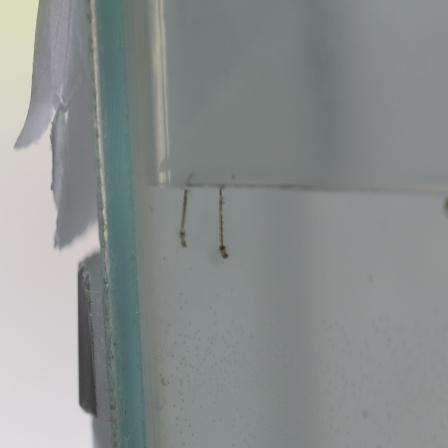Jentik-Nyamuk: (212, 184, 230, 261), (173, 185, 193, 252)
